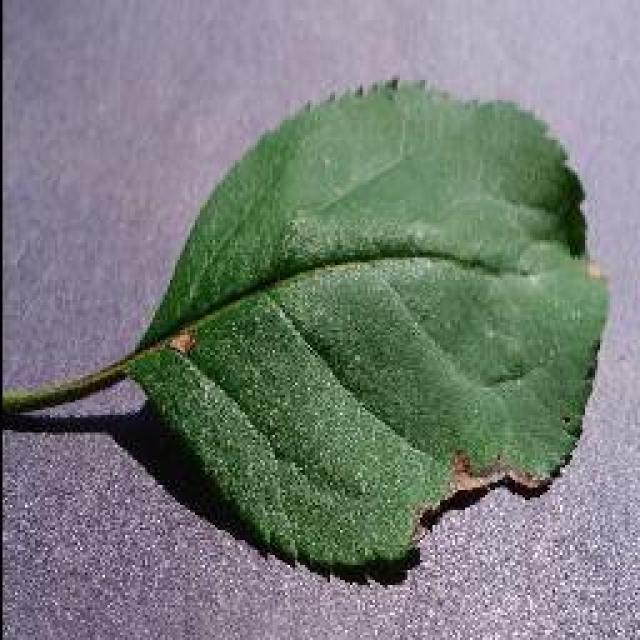Black_rot: (0, 72, 610, 580)
